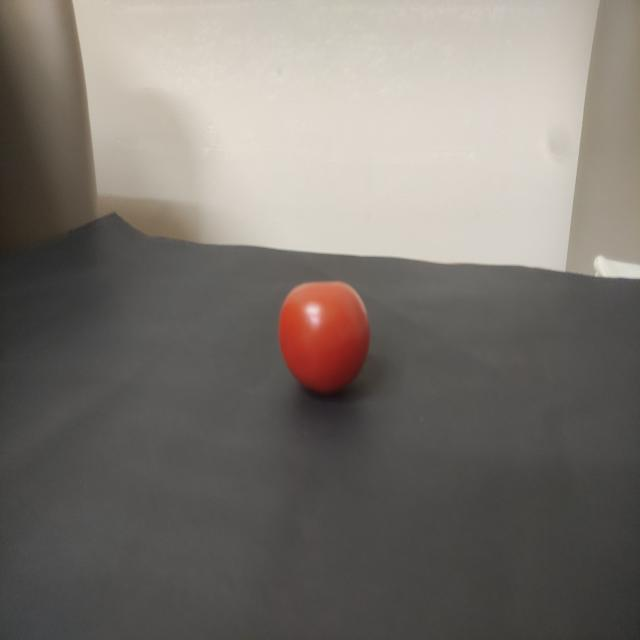kirmizi: (262, 267, 389, 398)
